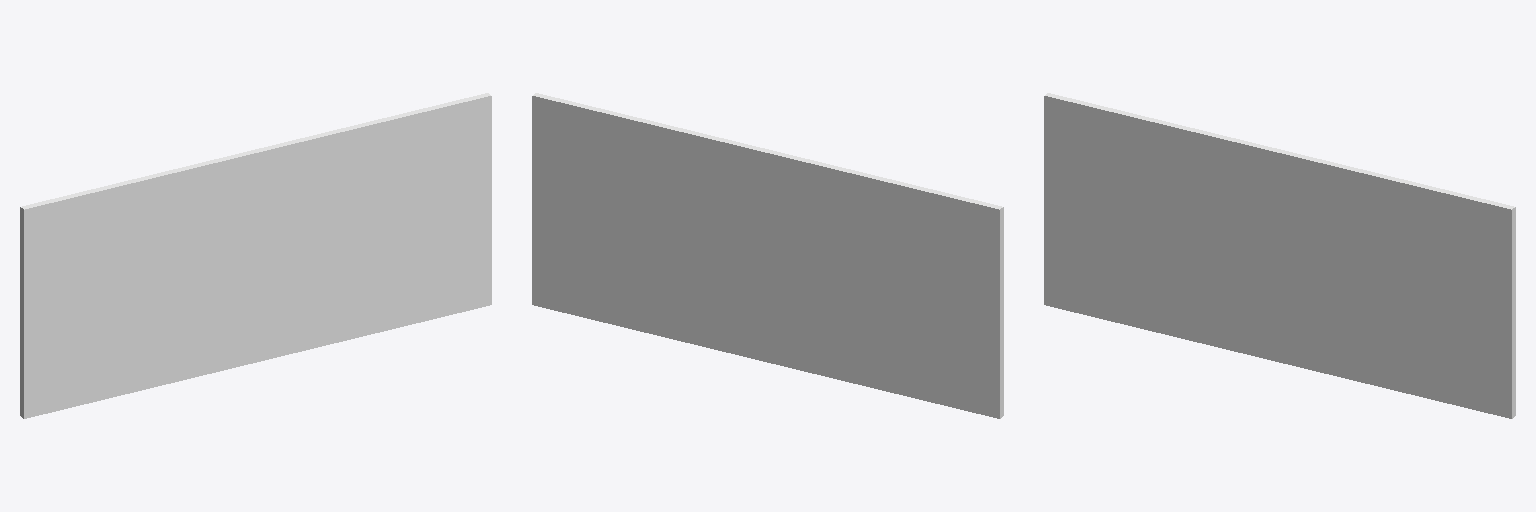
robot.urdf — construct_backside:
<?xml version="1.0" ?>
<robot name="construct_backside">
 <link name="baseLink">
   <contact>
     <lateral_friction value="0.5"/>
   </contact>
   <inertial>
     <origin rpy="0 0 0" xyz="0.7 0.01 1.04"/>
      <mass value="1.0"/>
      <inertia ixx="0.000505" ixy="0.000000" ixz="0.000000" iyy="0.003248" iyz="0.000000" izz="0.002745"/>
   </inertial>
   <visual>
     <origin rpy="0 0 0" xyz="0 0 0"/>
     <geometry>
       <mesh filename="construct_backside.obj" scale="1.0 1.0 1.0"/>
     </geometry>
      <material name="white">
       <color rgba="1 1 1 1"/>
     </material>
   </visual>
   <collision>
     <origin rpy="0 0 0" xyz="0 0 0"/>
     <geometry>
       <mesh filename="construct_backside.obj" scale="1.0 1.0 1.0"/>
     </geometry>
   </collision>
 </link>
</robot>

--- Facts derived from the render (not from the file) ---
The picture shows the robot from 3 angles, left to right: view 1: azimuth 30°, elevation 25°; view 2: azimuth 150°, elevation 25°; view 3: azimuth 330°, elevation 25°; orthographic projection.
Model construct_backside with 1 links and 0 joints (none), rooted at baseLink, posed all joints at 0.
Visible links, largest first — view 1: baseLink; view 2: baseLink; view 3: baseLink.
Link boxes in pixels (bbox=[...]): baseLink: bbox=[20, 93, 491, 418]; baseLink: bbox=[532, 93, 1003, 418]; baseLink: bbox=[1044, 93, 1515, 418].
Size in the robot's own frame: 1.4 by 0.02 by 0.6 metres.
Meshes: 1 distinct files referenced, 1 mesh visuals loaded (1 OBJ).